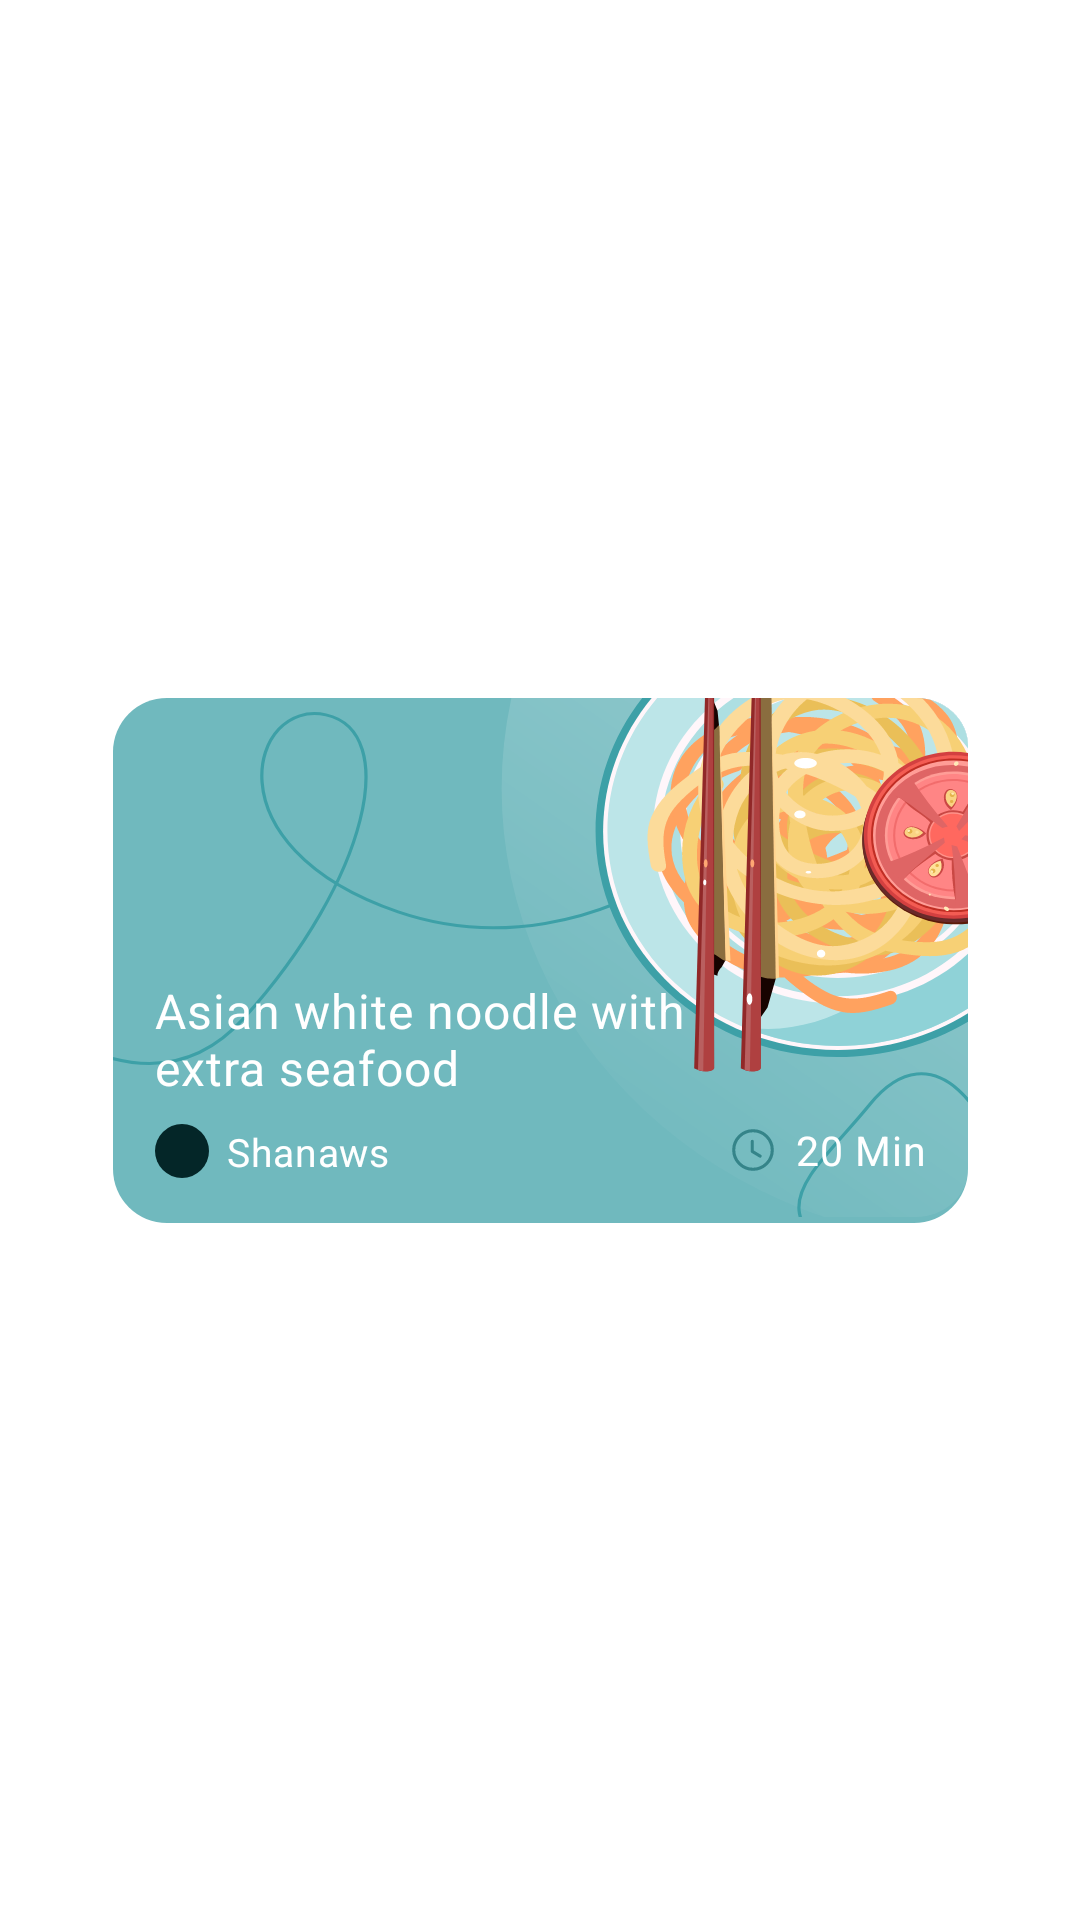

Icons on this 1080px×1920px Android screen, each with the point to tap as [x,y]:
time: [753,1150]
